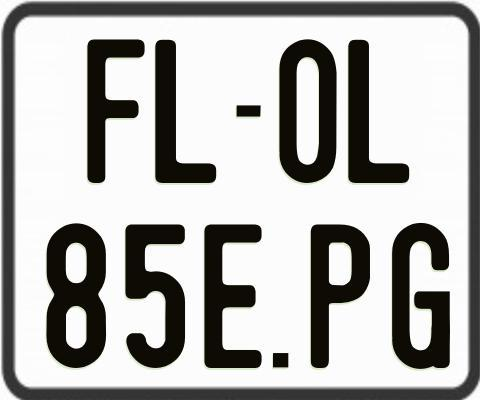0: (276, 36, 338, 180)
5: (122, 221, 188, 370)
8: (43, 222, 107, 369)
E: (202, 221, 263, 366)
F: (85, 36, 147, 184)
G: (389, 221, 450, 369)
L: (346, 38, 411, 186), (152, 37, 214, 182)
P: (308, 223, 369, 373)
